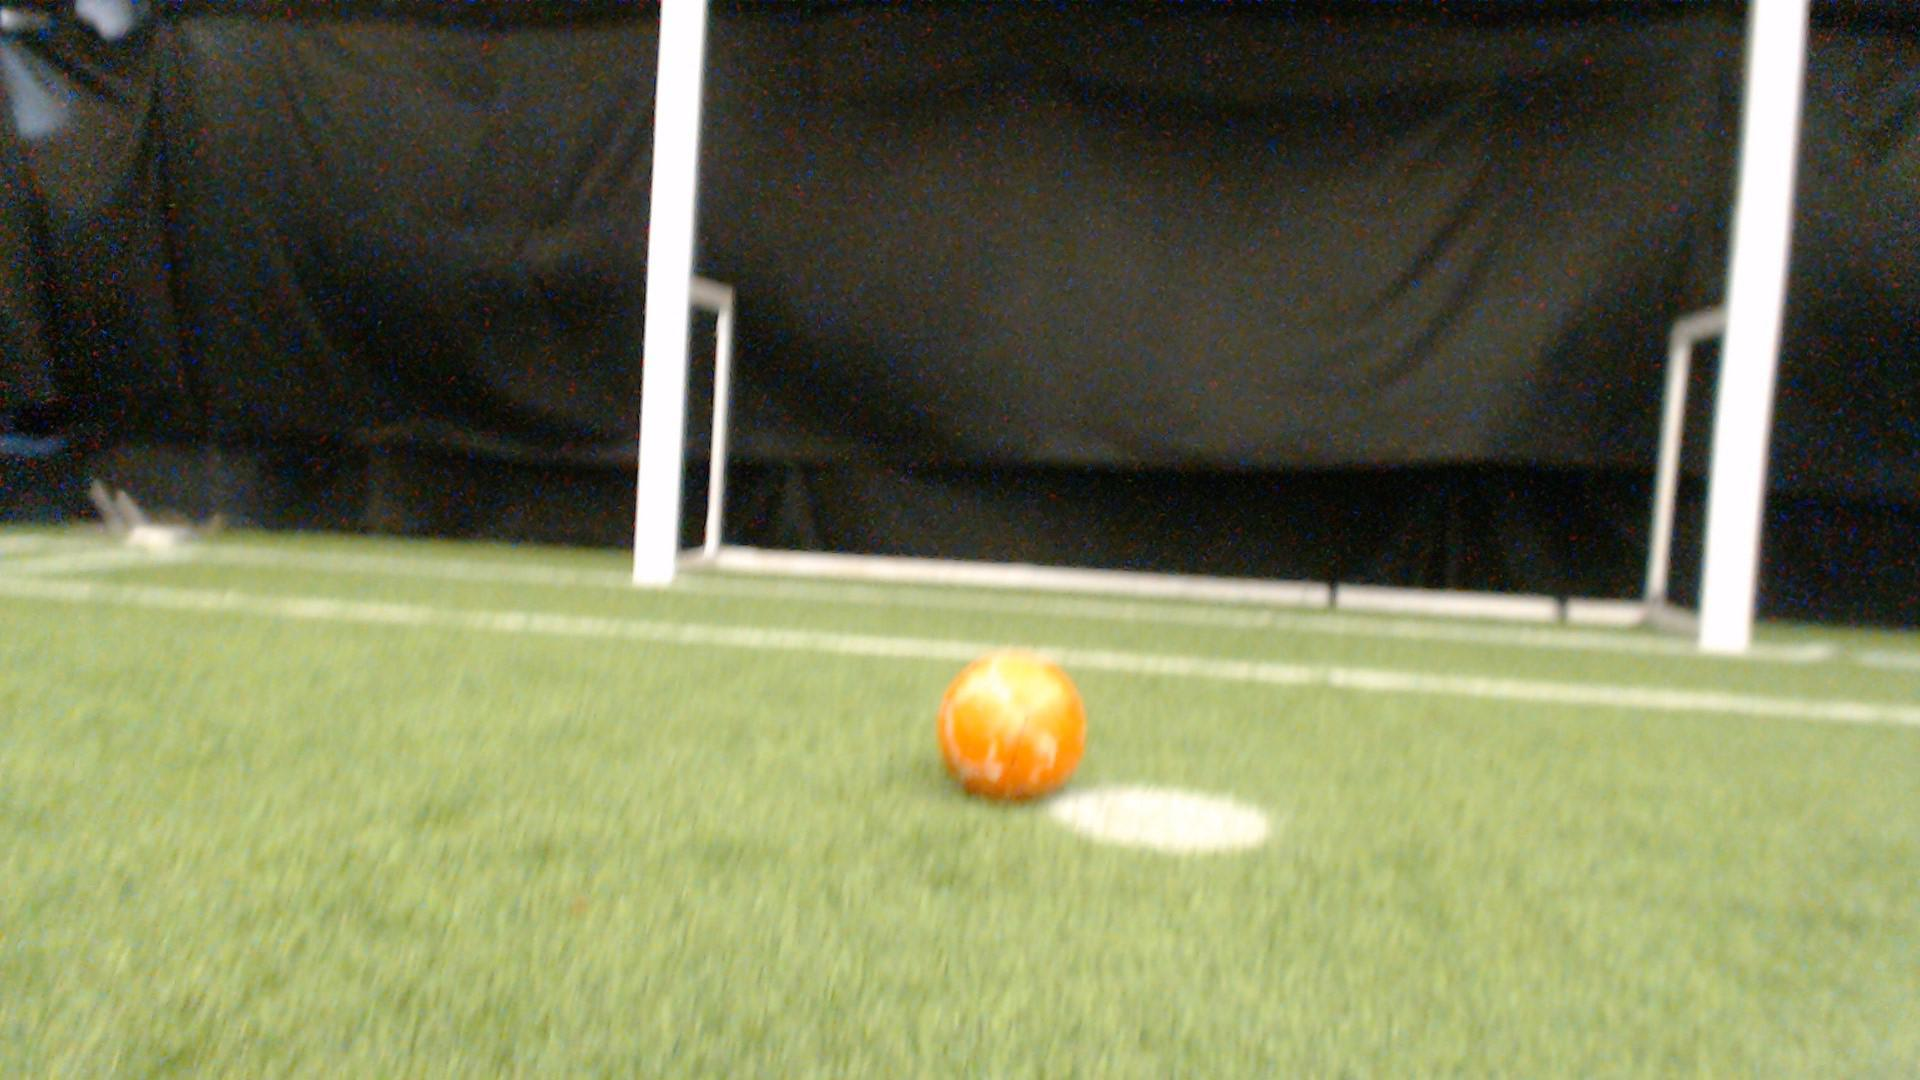bola: (909, 636, 1124, 832)
